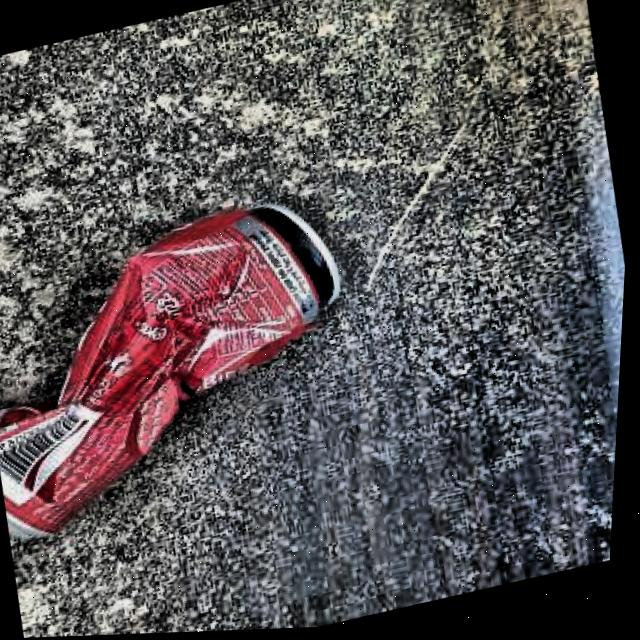metal: (0, 199, 343, 542)
